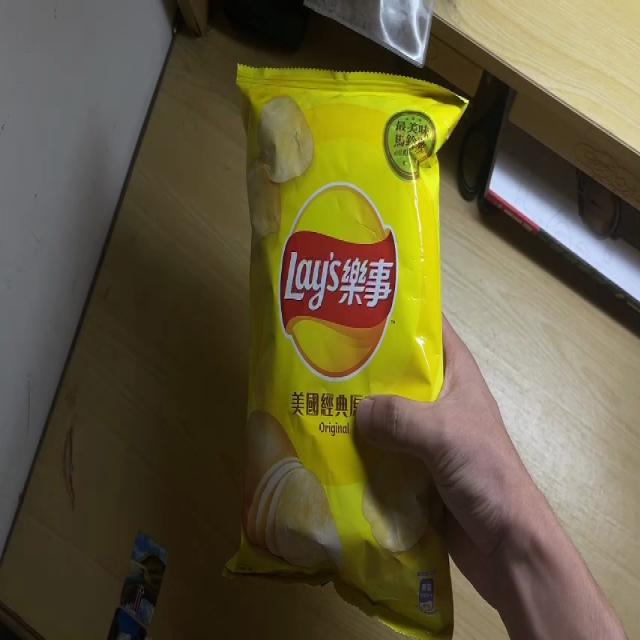Lay-s-original: (221, 61, 471, 640)
